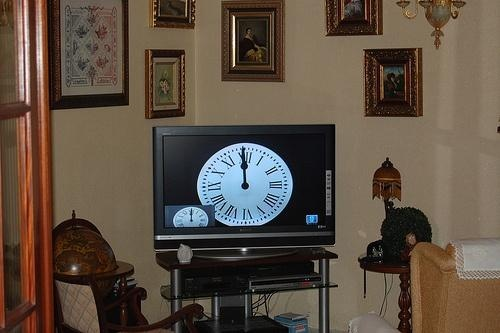chair: (47, 266, 204, 332)
sofa: (343, 235, 500, 333)
tvmonitor: (150, 120, 339, 264)
